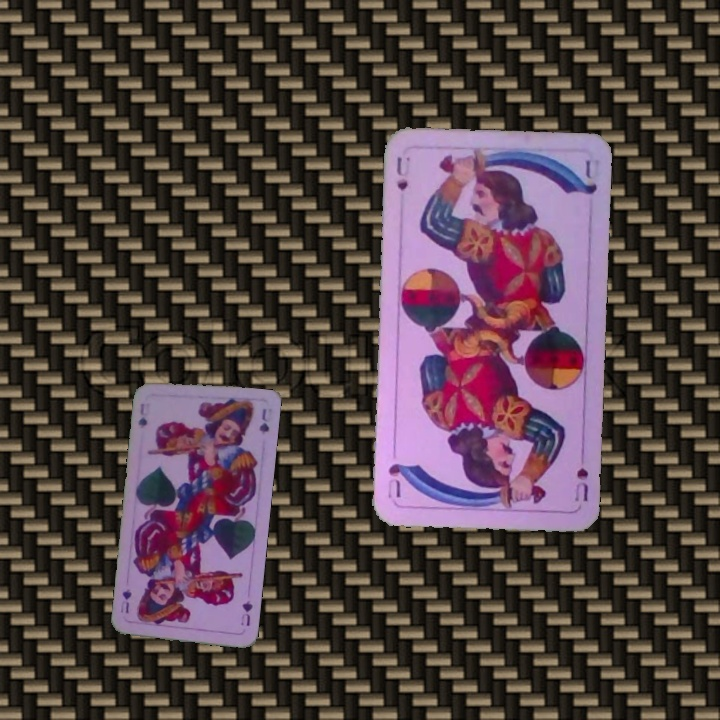GU: (134, 399, 153, 431), (237, 596, 255, 628)
SU: (571, 448, 591, 504), (392, 152, 413, 193)
